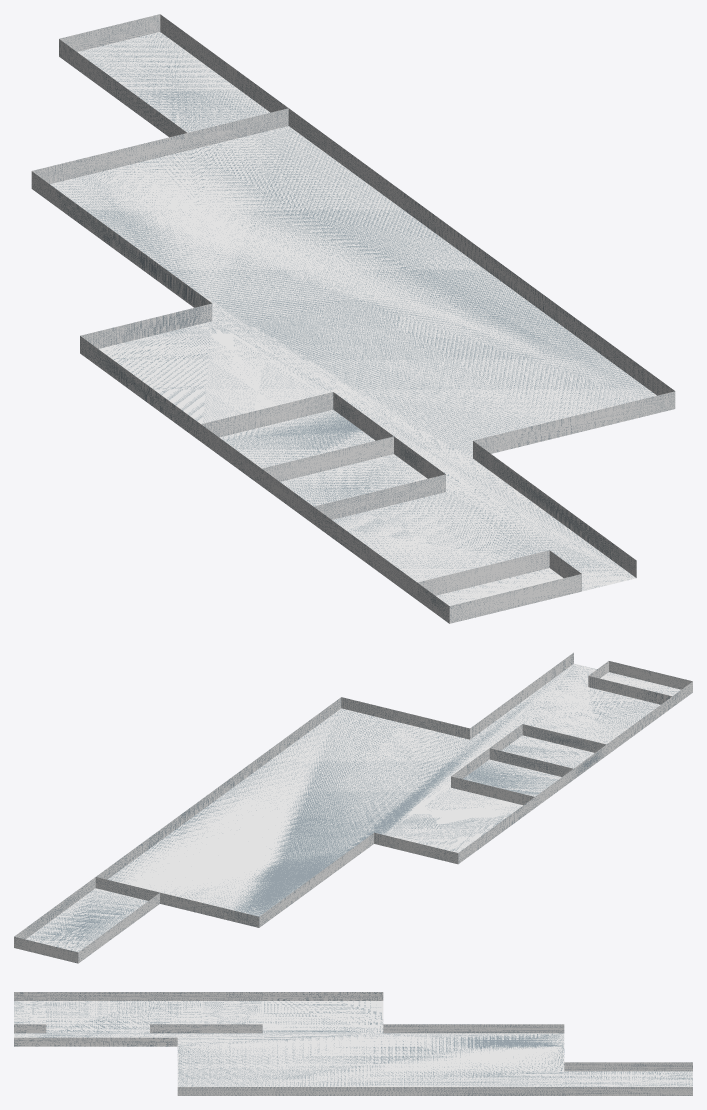
Rendered from f60e2542-f45b-4baa-9abb-bfe0bd1898d8.obj.
The picture shows the model from 3 angles, top to bottom: view 1: azimuth 30°, elevation 25°; view 2: azimuth 150°, elevation 25°; view 3: azimuth 270°, elevation 25°; orthographic projection. The views are drawn at different scales.
Visible parts, largest first — view 1: Mesh1 Model; view 2: Mesh1 Model; view 3: Mesh1 Model.
Boxes of the visible parts, x1,y1,x2,y2 form: Mesh1 Model: (31, 14, 675, 623); Mesh1 Model: (14, 652, 692, 963); Mesh1 Model: (14, 992, 692, 1095).
Size of the model in its own units: 14823 by 645 by 44739.
